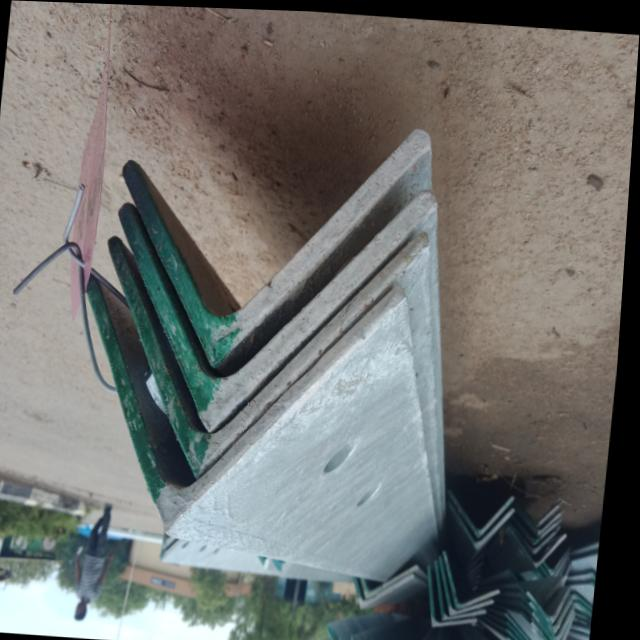metal-angles: (91, 274, 411, 532), (111, 229, 432, 478), (121, 187, 440, 430), (124, 123, 431, 364), (449, 546, 508, 606), (454, 495, 522, 547), (445, 551, 502, 612), (453, 483, 521, 534), (441, 555, 495, 617), (434, 560, 486, 624), (514, 521, 574, 564), (360, 569, 421, 605), (367, 561, 424, 596), (540, 598, 585, 640), (536, 590, 582, 631), (534, 580, 580, 621), (518, 510, 569, 541)
